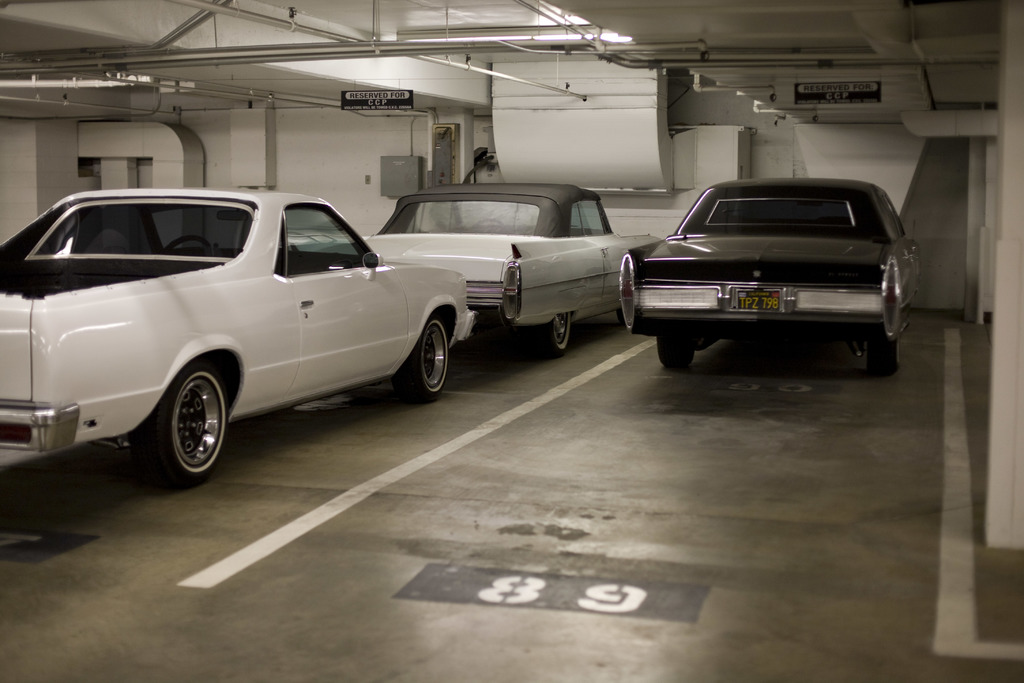mobil: (16, 183, 462, 474)
